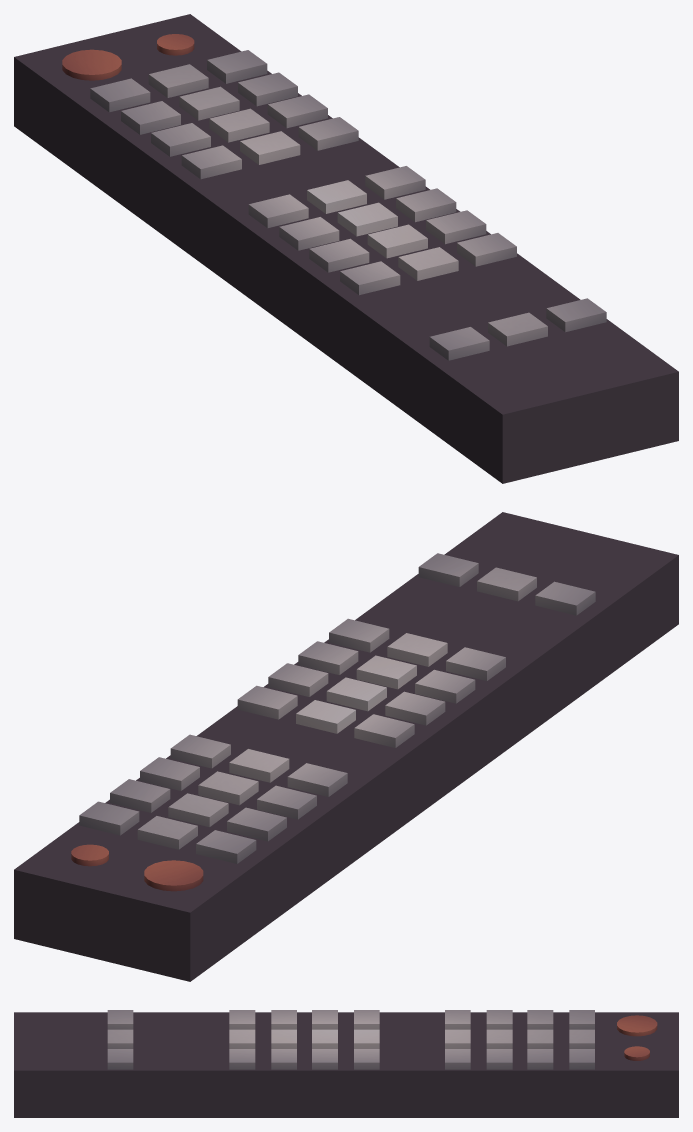
Rendered from M_remotecontrol_fragments.FBX.
3 views of the same model, one above another, from view 1: azimuth 30°, elevation 25°; view 2: azimuth 150°, elevation 25°; view 3: azimuth 270°, elevation 25° (orthographic). The views are drawn at different scales.
Visible parts, largest first — view 1: Box013_Part_3, Box013_Part_2, Box013_Part_4, Box013_Part_1; view 2: Box013_Part_4, Box013_Part_2, Box013_Part_3, Box013_Part_1; view 3: Box013_Part_2, Box013_Part_3, Box013_Part_4, Box013_Part_1.
Part boxes in pixels (x1,y1,x2,y2): Box013_Part_3: (357, 290, 678, 483); Box013_Part_2: (138, 80, 449, 327); Box013_Part_4: (14, 14, 289, 220); Box013_Part_1: (287, 197, 566, 376); Box013_Part_4: (14, 785, 319, 981); Box013_Part_2: (121, 667, 465, 886); Box013_Part_3: (391, 512, 678, 730); Box013_Part_1: (281, 594, 557, 780); Box013_Part_2: (307, 1010, 538, 1117); Box013_Part_3: (14, 1010, 198, 1117); Box013_Part_4: (512, 1010, 678, 1117); Box013_Part_1: (166, 1010, 320, 1117).
Size of the model in its own units: 7.83 by 37.59 by 3.37.
